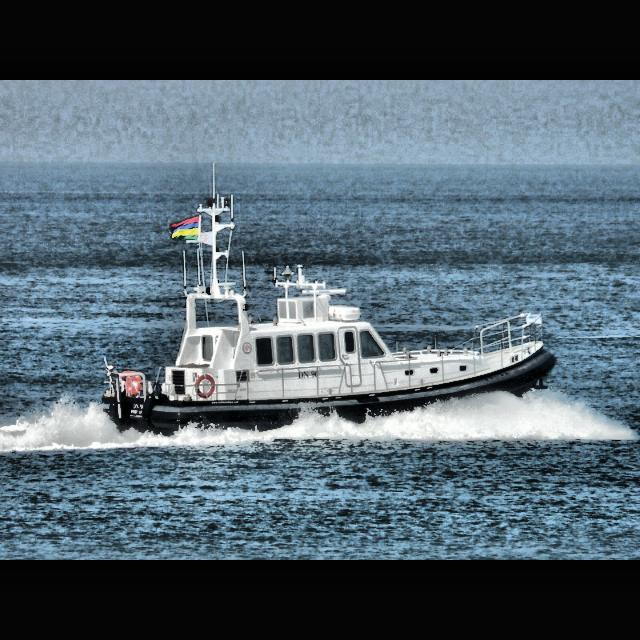patrol_vessel: (102, 160, 558, 442)
